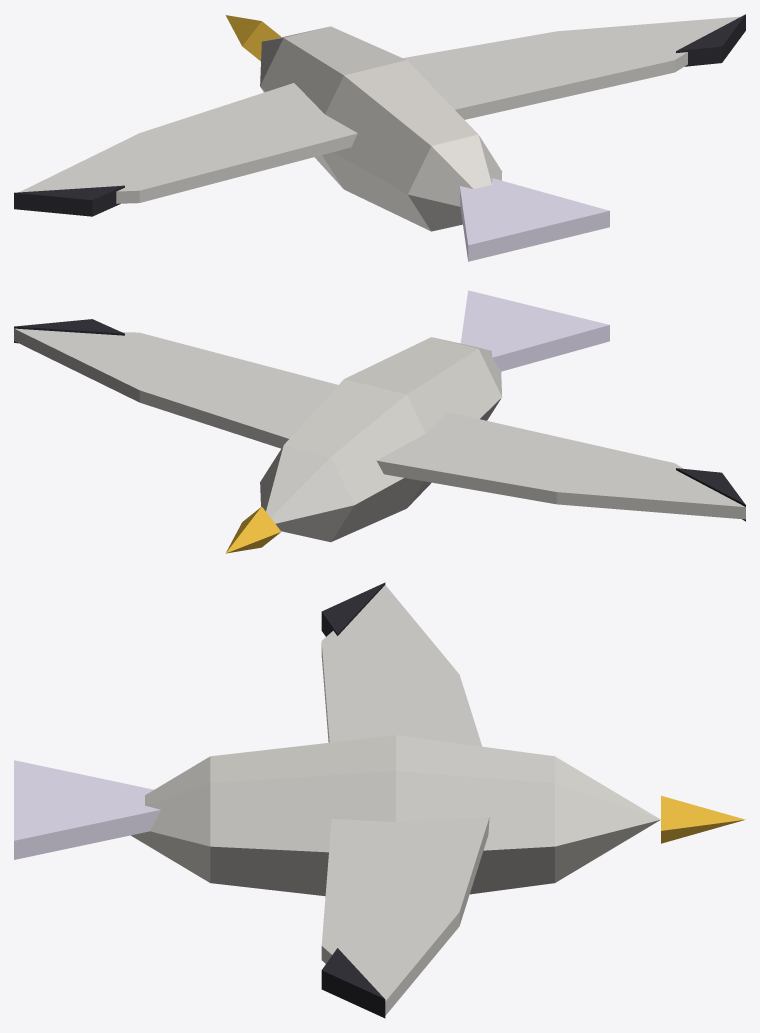
Rendered from bird.glb.
3 views of the same model, one above another, from view 1: azimuth 30°, elevation 25°; view 2: azimuth 150°, elevation 25°; view 3: azimuth 270°, elevation 25° (orthographic). The views are drawn at different scales.
Visible parts, largest first — view 1: Bird, WingL, WingR; view 2: Bird, WingL, WingR; view 3: Bird, WingR, WingL.
Boxes of the visible parts, left/top/right/bottom form: Bird: left=225, top=15, right=609, bottom=261; WingL: left=14, top=83, right=357, bottom=216; WingR: left=403, top=14, right=745, bottom=119; Bird: left=225, top=290, right=609, bottom=553; WingL: left=376, top=412, right=745, bottom=521; WingR: left=14, top=319, right=337, bottom=448; Bird: left=14, top=735, right=745, bottom=896; WingR: left=321, top=816, right=489, bottom=1018; WingL: left=321, top=582, right=482, bottom=746.
Bounding box in the file's own units: 1.86 × 0.2771 × 1.38.
